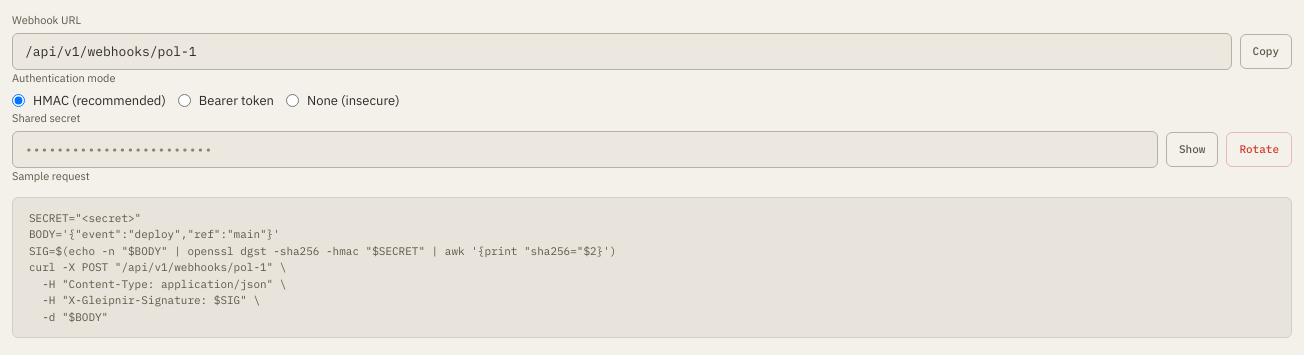
WebhookConfig — generate CTA (HMAC mode, no secret yet) › shows "Generate initial secret" CTA when secret is null after reveal
Click the button "Show" at (1192, 149), box [1166,132,1218,166]
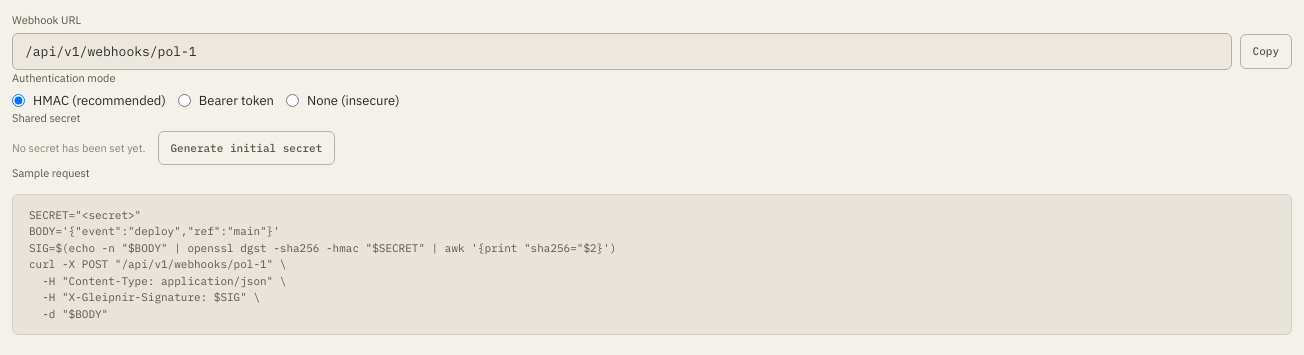
Expected: the button "Generate initial secret" is shown, [158,130,335,165]
